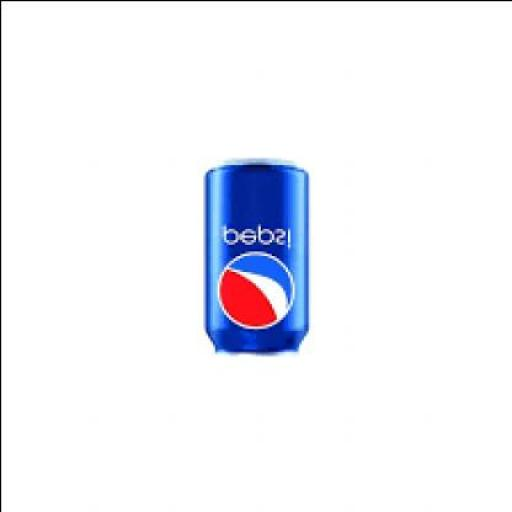metal: (200, 166, 307, 355)
